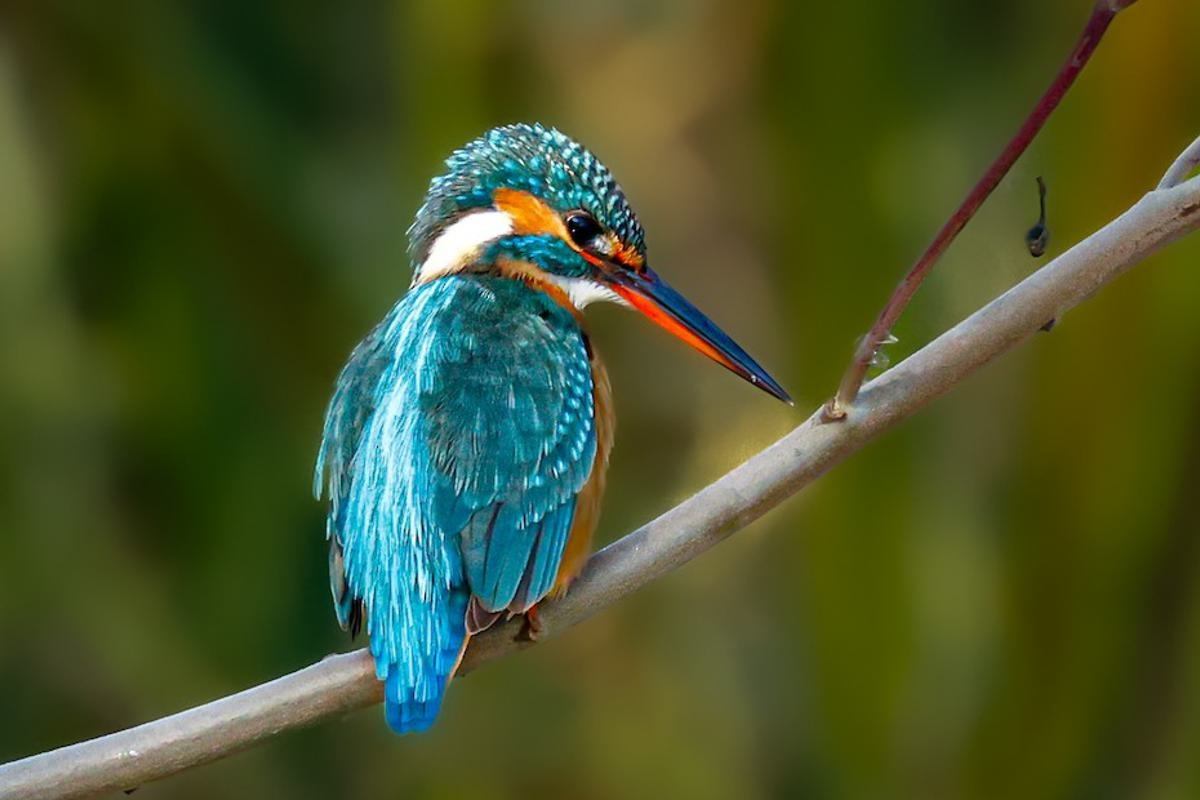kingfisher: (303, 113, 780, 725)
